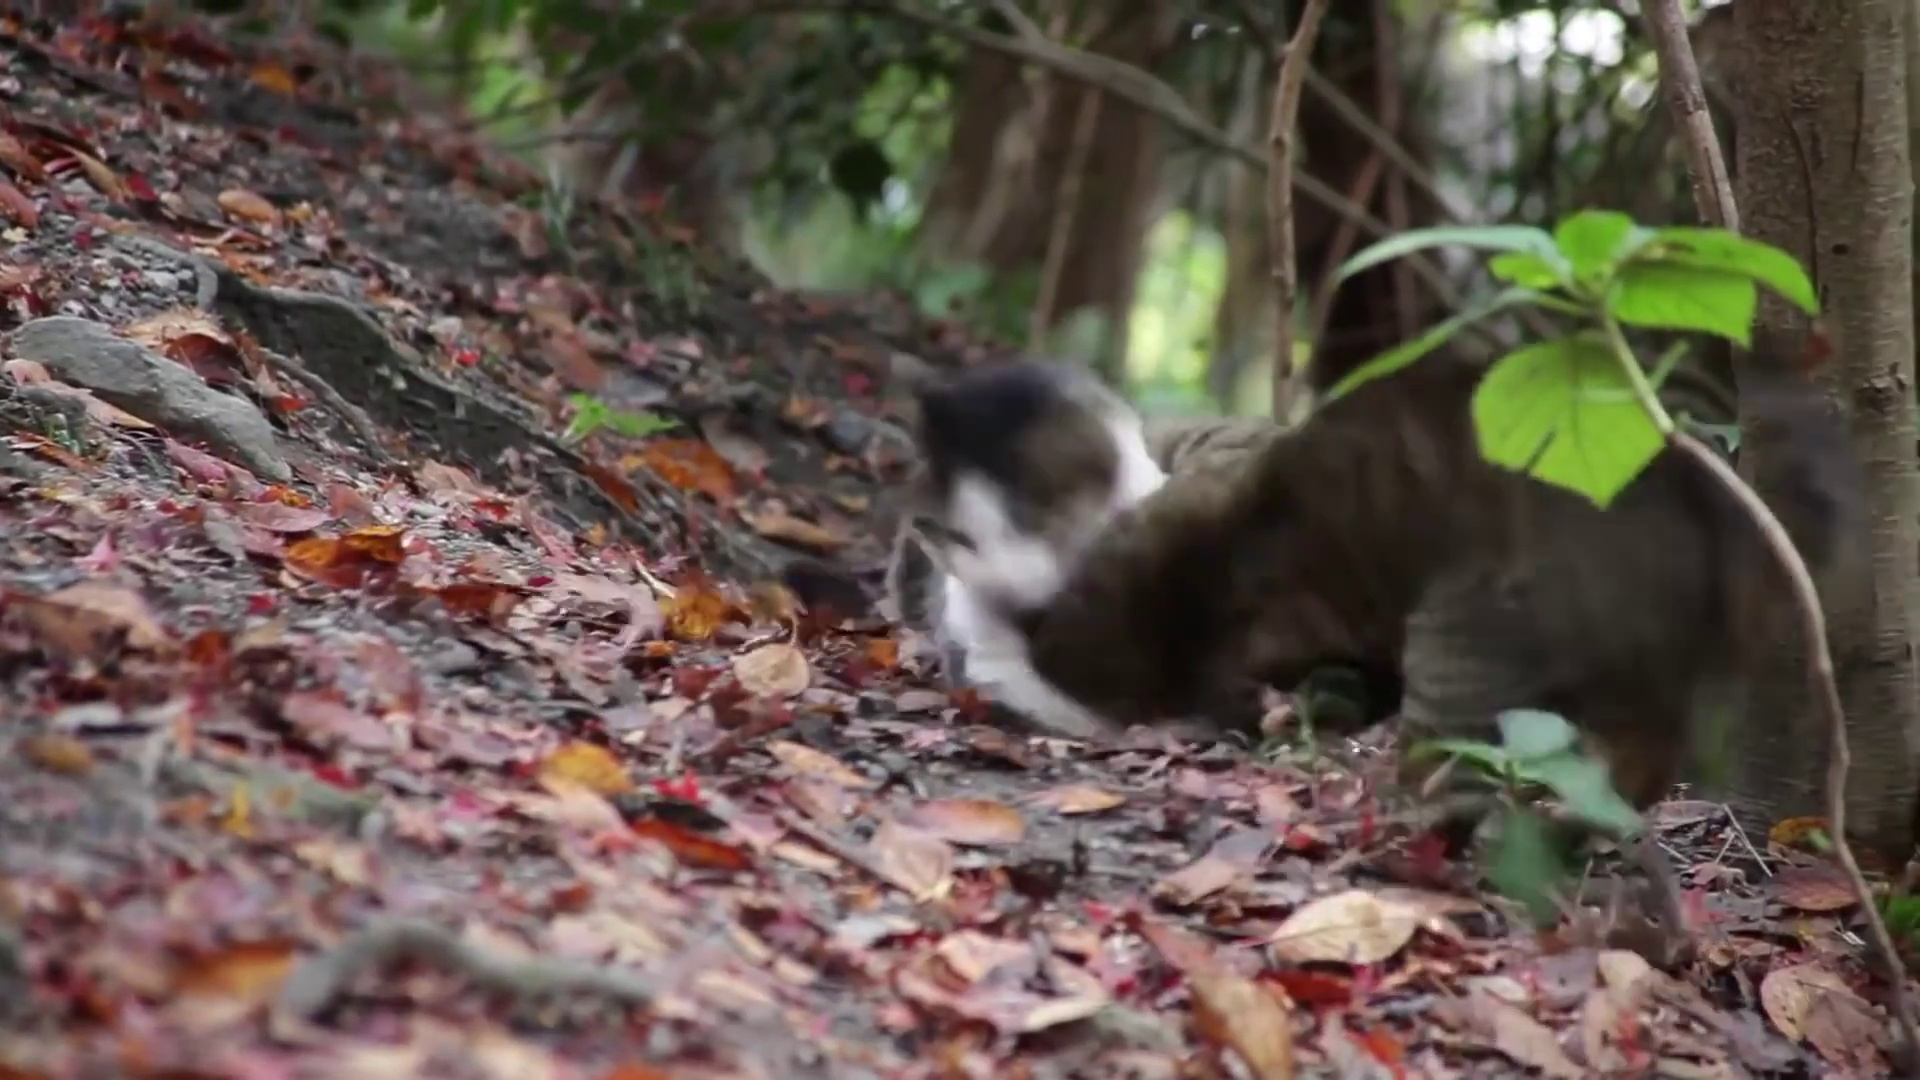black-white: (893, 353, 1171, 740)
pure black: (1043, 377, 1701, 738)
